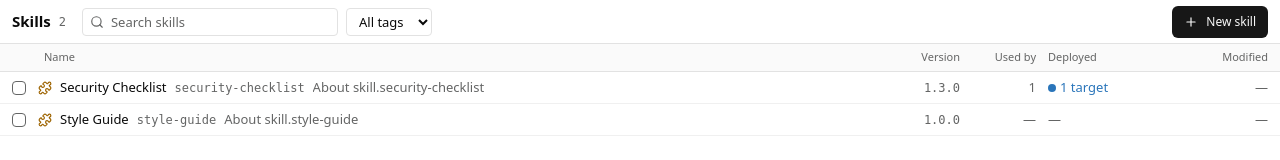
Test: library list (T1.6.3) › filters by search and by tag, and offers a way back
The image size is (1280, 160).
Expected: the text "Security Checklist" is shown, x1=60 y1=78 x2=167 y2=97
Type "style" into the field labelled "Search skills".
click(210, 22); type("style")  # box x1=82 y1=8 x2=338 y2=36
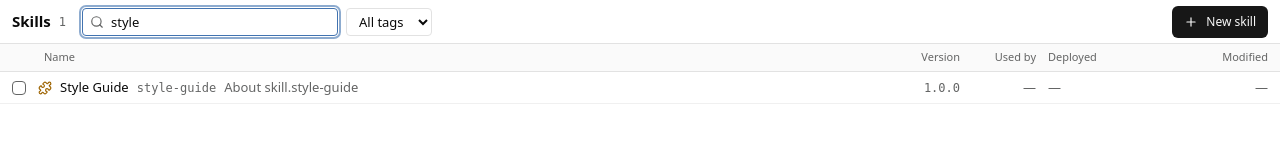
Expected: the text "Style Guide" is shown, x1=60 y1=78 x2=129 y2=97
Now the button "Security Checklist" is gone
Clear the field named "Search skills" at (210, 22), box x1=82 y1=8 x2=338 y2=36
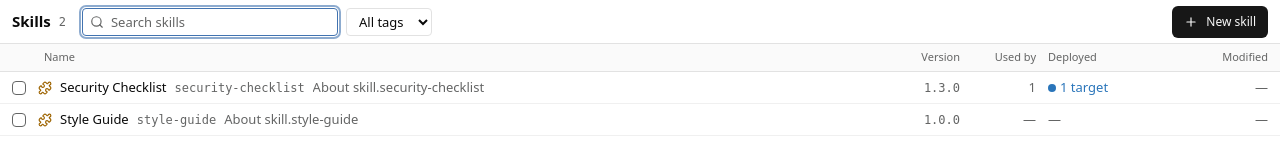
Select "security" in the dropdown named "Filter by tag" at (389, 22), box x1=346 y1=8 x2=432 y2=36
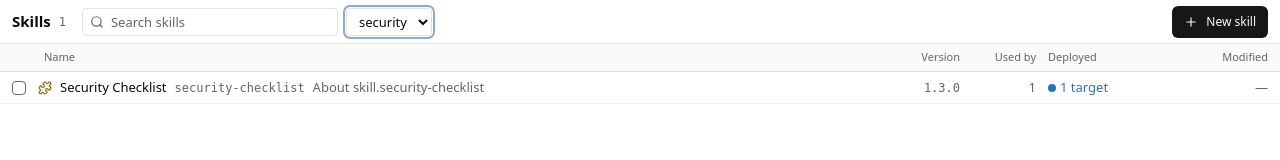
Now the button "Style Guide" is gone
Select "All tags" in the dropdown named "Filter by tag" at (389, 22), box x1=346 y1=8 x2=432 y2=36
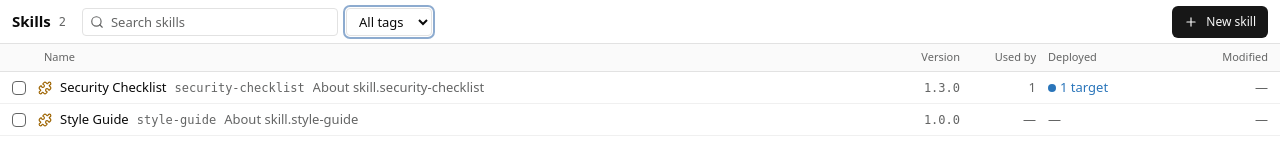
Now the text "Style Guide" is shown, box x1=60 y1=110 x2=129 y2=129
